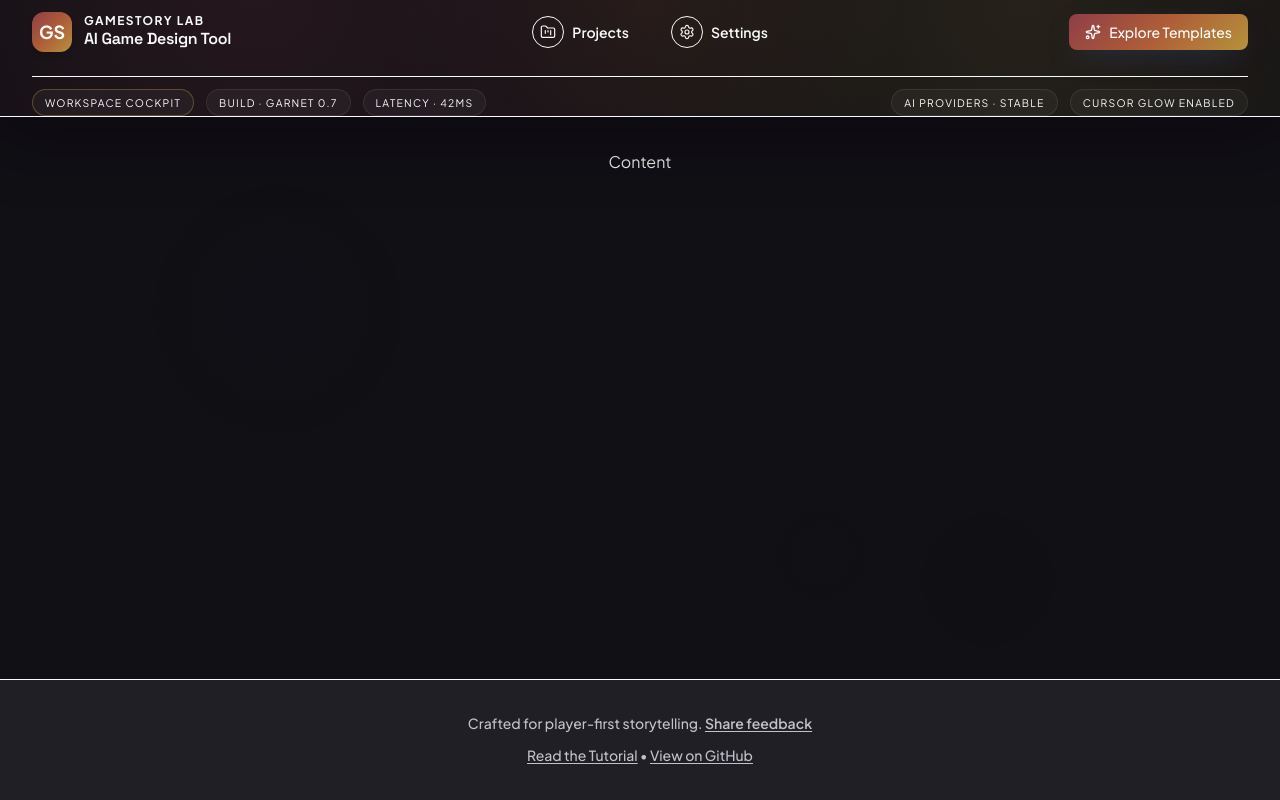
Layout › should open settings menu and show entries
This screenshot has width=1280, height=800.
Click the button "Settings".
click(719, 32)  # box [654,7,785,57]
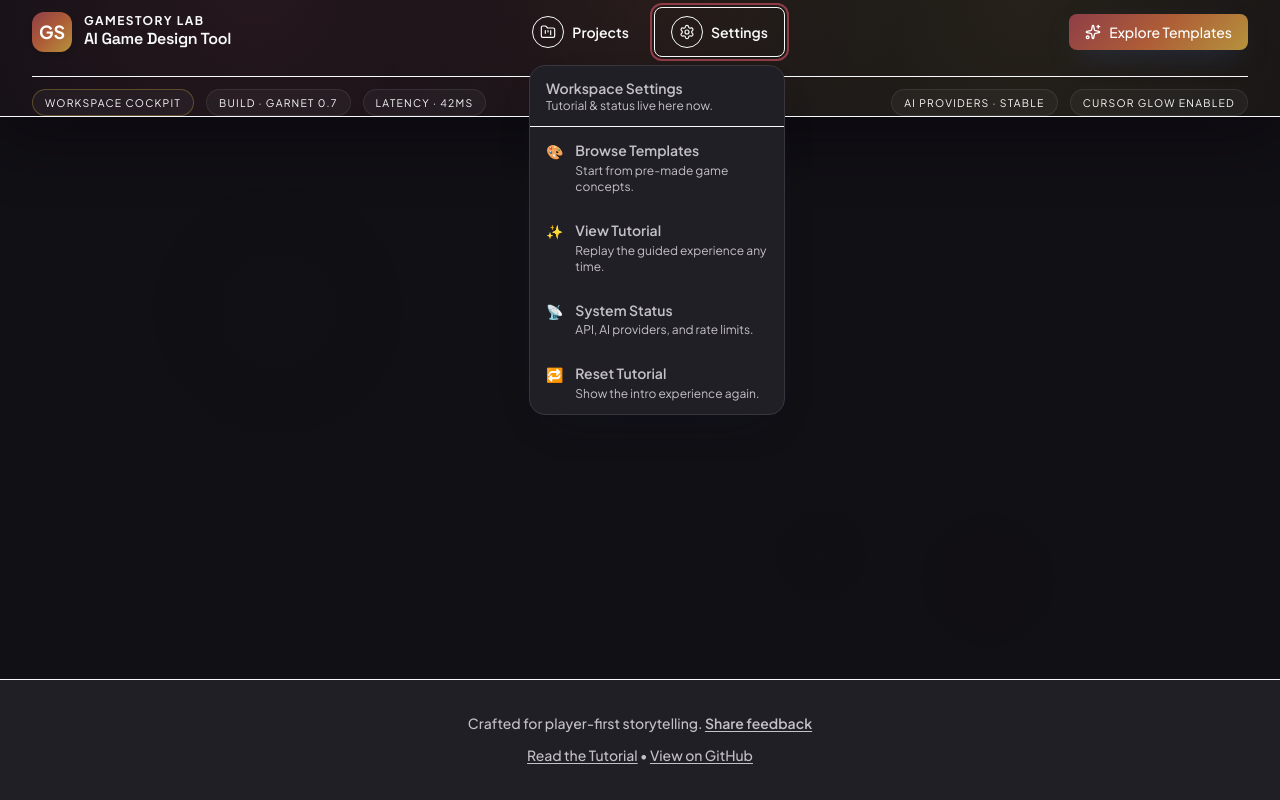
Check: the text "Workspace Settings" is shown, box [546,79,683,97]
Check: the text "View Tutorial" is shown, box [575,221,661,239]
Check: the text "System Status" is shown, box [575,301,673,319]
